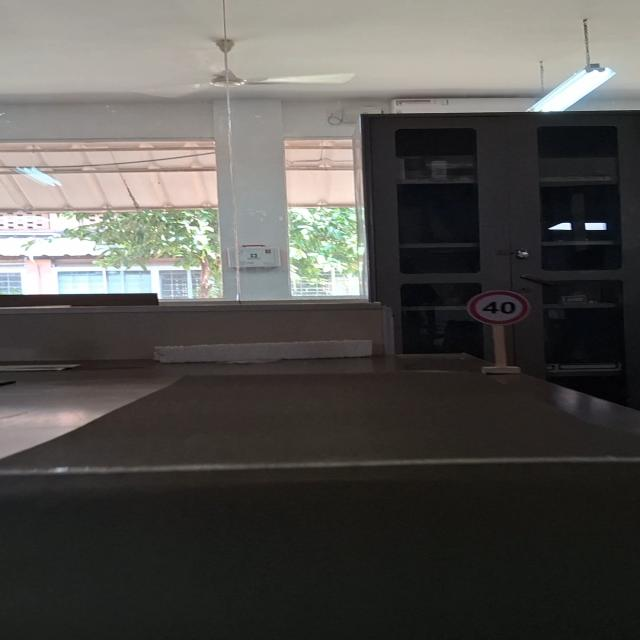Speed40: (464, 288, 532, 326)
